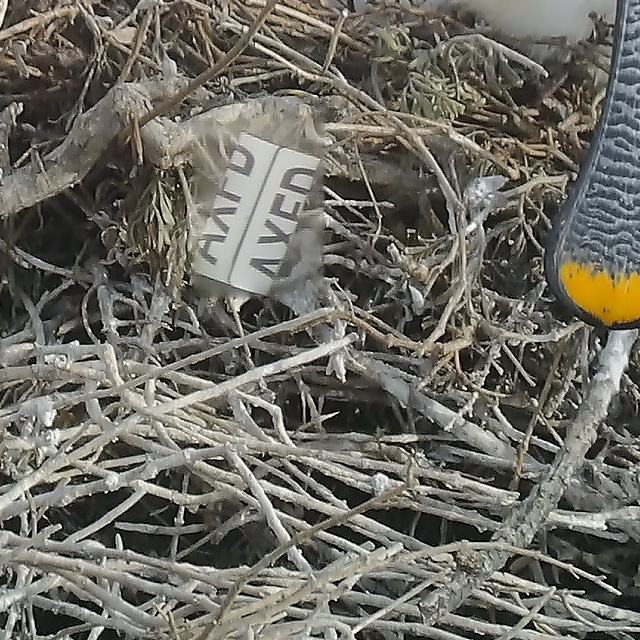tag: (188, 114, 328, 302)
